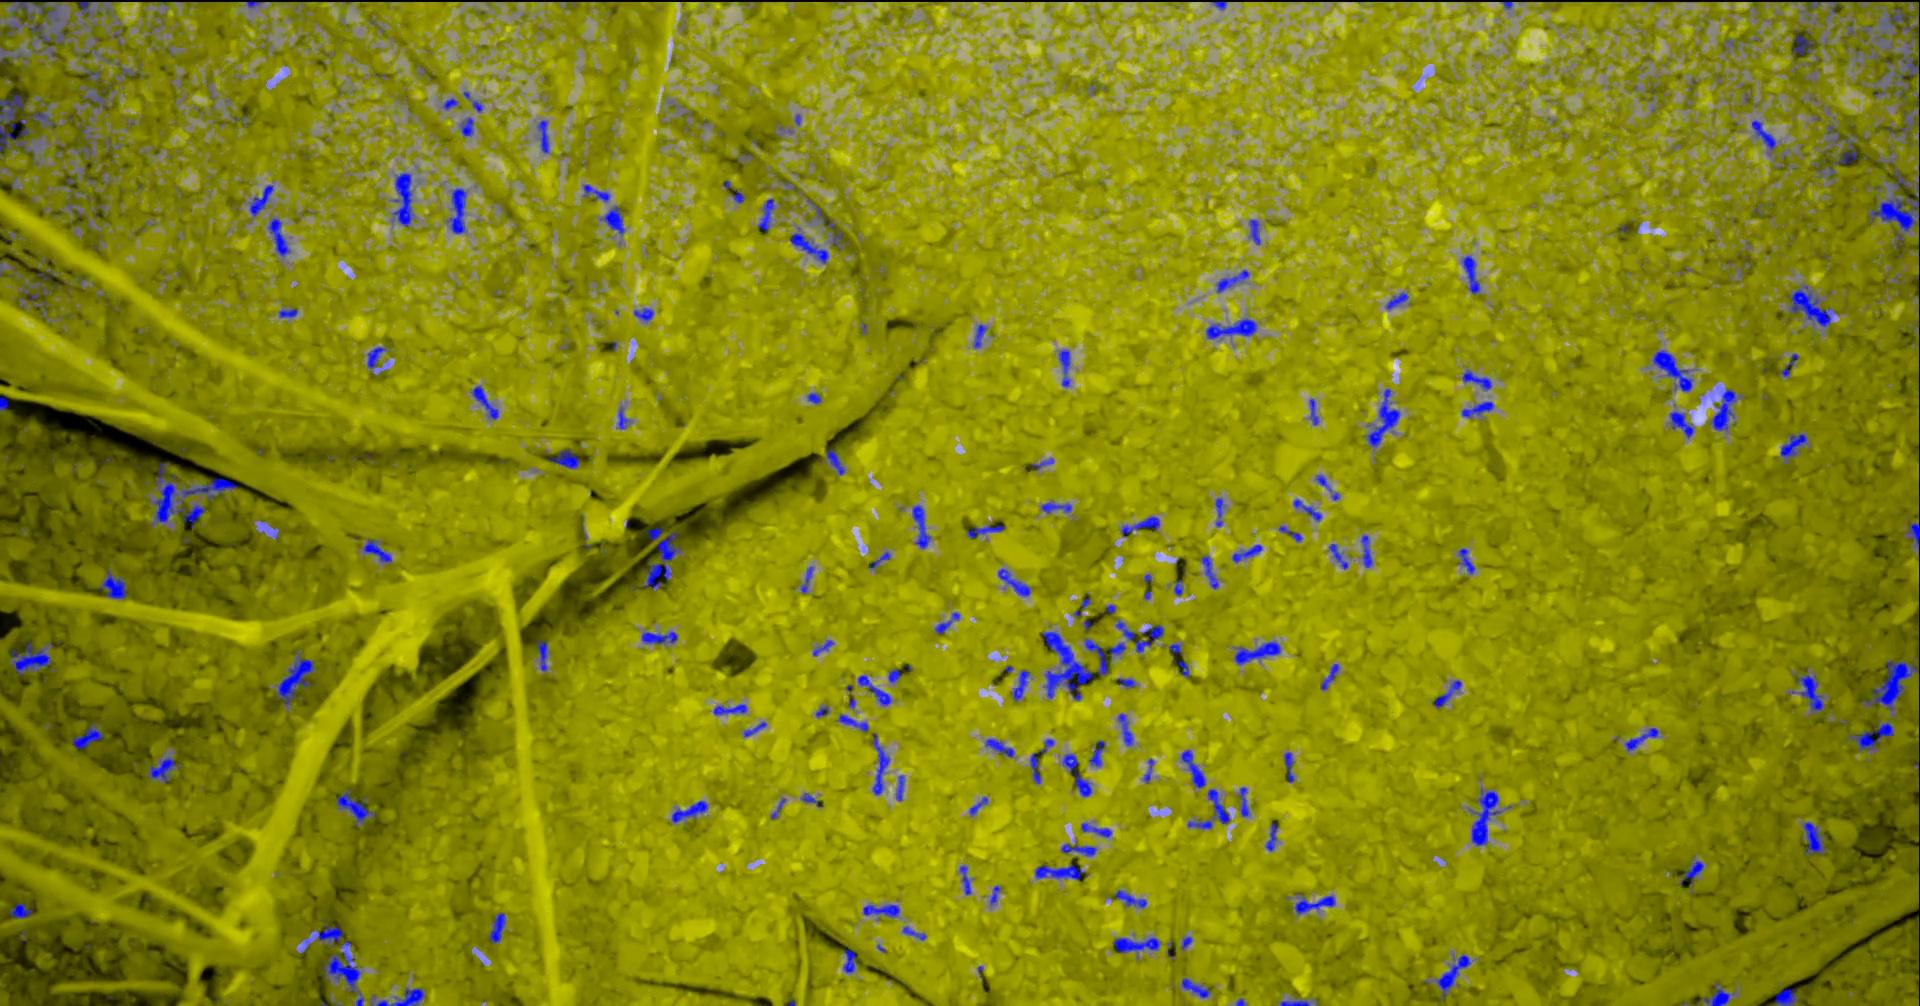ant: (13, 0, 70, 46), (643, 526, 683, 588), (1, 94, 36, 158), (277, 652, 316, 706), (1368, 387, 1402, 446), (1790, 285, 1837, 326), (1470, 788, 1503, 845), (808, 199, 844, 249), (1655, 349, 1695, 391), (1437, 954, 1474, 1000), (11, 639, 57, 674), (1790, 667, 1825, 711), (337, 789, 376, 827), (1117, 620, 1164, 652), (1710, 387, 1743, 431), (791, 227, 830, 263), (1849, 720, 1895, 751), (394, 171, 417, 227), (1064, 753, 1093, 796), (874, 733, 891, 795), (1208, 318, 1258, 339), (1236, 641, 1283, 664), (1031, 738, 1055, 782), (858, 674, 891, 705), (1182, 749, 1208, 788), (472, 385, 500, 419), (373, 987, 425, 1005), (999, 568, 1032, 596), (1086, 636, 1110, 674), (149, 756, 183, 782), (448, 188, 469, 232), (269, 217, 292, 257), (100, 567, 128, 598), (1036, 862, 1086, 880), (1115, 937, 1161, 956), (1297, 893, 1336, 915), (72, 721, 104, 748), (1803, 821, 1827, 855), (913, 504, 932, 547), (1217, 269, 1251, 292), (1625, 727, 1660, 749), (1890, 0, 1920, 25), (1832, 133, 1858, 164), (1123, 516, 1161, 536), (1209, 788, 1230, 823), (673, 800, 709, 822), (251, 184, 276, 216), (1782, 432, 1810, 459), (1436, 680, 1463, 708), (601, 205, 626, 234), (1170, 643, 1191, 677), (1752, 119, 1777, 150), (1703, 982, 1735, 1005), (1463, 255, 1481, 293), (22, 281, 55, 301), (1671, 412, 1695, 438), (1295, 498, 1323, 521), (364, 539, 392, 561), (549, 448, 582, 467), (1201, 555, 1220, 588), (1463, 370, 1493, 390), (1013, 669, 1032, 701), (1794, 30, 1816, 58), (863, 904, 902, 920), (1898, 53, 1920, 80), (1685, 857, 1705, 885), (1183, 977, 1211, 997), (838, 713, 870, 730), (1116, 889, 1148, 907), (987, 738, 1016, 757), (85, 86, 110, 108), (936, 612, 961, 634), (1119, 713, 1135, 746), (1330, 542, 1350, 569), (1233, 544, 1263, 561), (489, 912, 507, 942), (759, 198, 776, 230), (827, 448, 847, 474), (968, 525, 1004, 539), (1463, 401, 1495, 417), (1322, 663, 1341, 688), (28, 111, 55, 128), (643, 631, 679, 644), (1062, 843, 1098, 856), (368, 345, 389, 368), (1082, 822, 1112, 837), (584, 184, 612, 201), (1902, 25, 1920, 51), (1090, 741, 1107, 766), (1782, 353, 1801, 376), (1777, 987, 1801, 1005), (1060, 349, 1072, 386), (538, 119, 551, 152), (1459, 547, 1476, 573), (1387, 291, 1410, 309), (1280, 525, 1304, 541), (714, 702, 748, 714), (465, 90, 484, 111), (974, 324, 989, 348), (1363, 535, 1374, 567), (870, 551, 891, 568), (814, 639, 836, 655), (11, 902, 33, 918), (1895, 168, 1910, 191), (1043, 502, 1073, 513), (1285, 752, 1297, 782), (772, 796, 787, 819), (971, 796, 989, 815), (904, 926, 928, 940), (1076, 597, 1092, 617), (1239, 786, 1251, 815), (1267, 822, 1279, 851), (961, 865, 973, 894), (1250, 218, 1262, 244), (803, 567, 815, 592), (1909, 522, 1920, 550), (745, 721, 768, 735), (538, 640, 549, 671), (844, 948, 857, 972), (1898, 117, 1920, 131), (803, 793, 824, 807), (1317, 474, 1333, 492), (618, 406, 631, 429), (635, 307, 655, 321), (1310, 398, 1321, 426), (1217, 497, 1225, 526), (88, 67, 104, 83), (1145, 758, 1156, 782), (37, 267, 56, 279), (462, 117, 475, 135), (1110, 641, 1128, 654), (897, 775, 905, 800), (1189, 819, 1214, 828), (990, 885, 1002, 904), (80, 0, 93, 15), (279, 307, 298, 318), (1281, 998, 1312, 1005), (444, 97, 458, 109), (889, 668, 902, 682), (1117, 678, 1137, 687), (734, 189, 745, 203), (817, 705, 830, 716), (808, 392, 823, 403), (1, 395, 10, 412), (1175, 578, 1183, 594), (1213, 0, 1228, 9), (248, 0, 265, 8)
